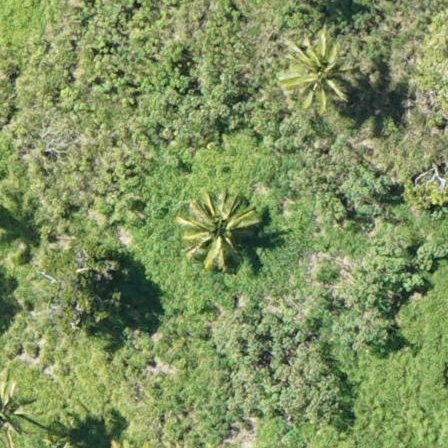palm_tree: (171, 188, 262, 275), (278, 27, 355, 108)
